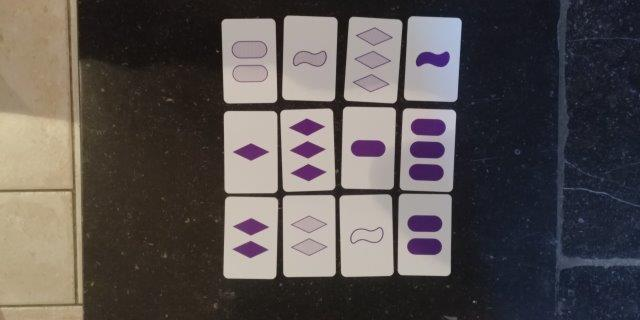1EW: (342, 198, 389, 273)
1FD: (226, 114, 273, 189)
1FP: (346, 110, 390, 186)
1FW: (409, 18, 454, 97)
1HW: (286, 18, 333, 98)
2FD: (226, 199, 274, 273)
2FP: (402, 197, 447, 273)
2HD: (285, 198, 332, 272)
2HP: (225, 21, 272, 99)
3FD: (284, 111, 330, 185)
3FP: (404, 111, 449, 188)
3HD: (351, 19, 394, 98)
